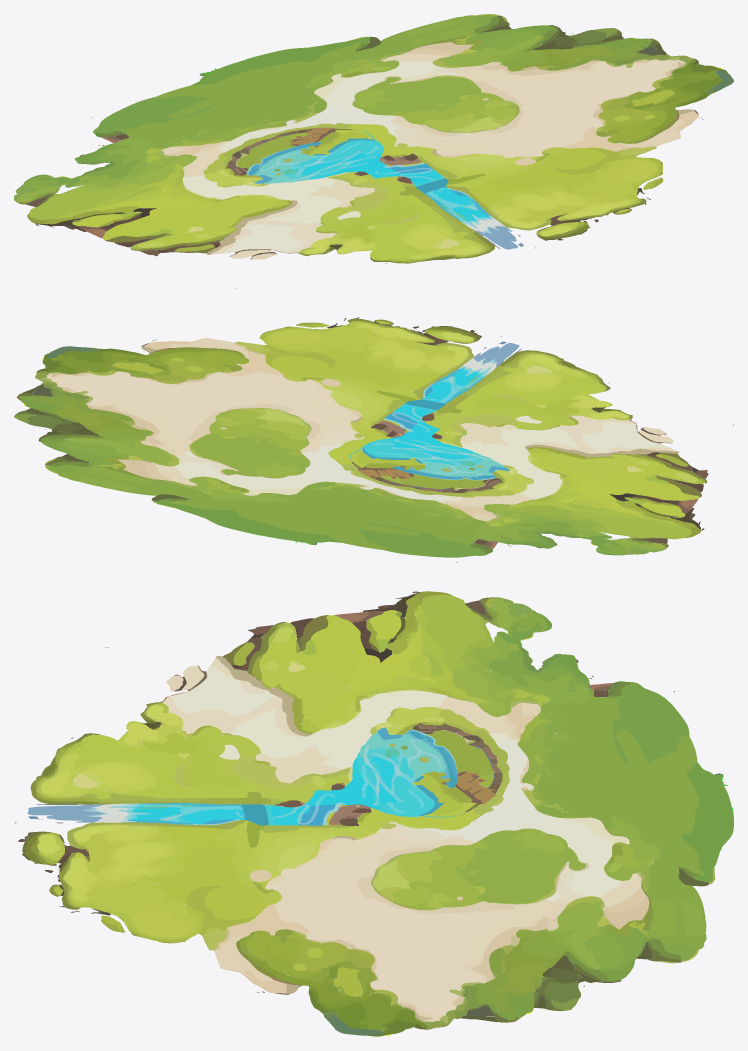
The model's file is island.fbx.
The picture shows the model from 3 angles, top to bottom: view 1: azimuth 30°, elevation 25°; view 2: azimuth 150°, elevation 25°; view 3: azimuth 270°, elevation 25°; orthographic projection. The views are drawn at different scales.
Parts seen in each view (by area): view 1: IslandPlane; view 2: IslandPlane; view 3: IslandPlane.
Part boxes in pixels (box(x1,y1,x2,y2)): IslandPlane: box(14, 14, 733, 288); IslandPlane: box(14, 317, 733, 562); IslandPlane: box(14, 591, 733, 1036).
Size of the model in its own units: 92.49 by 0 by 63.21.
